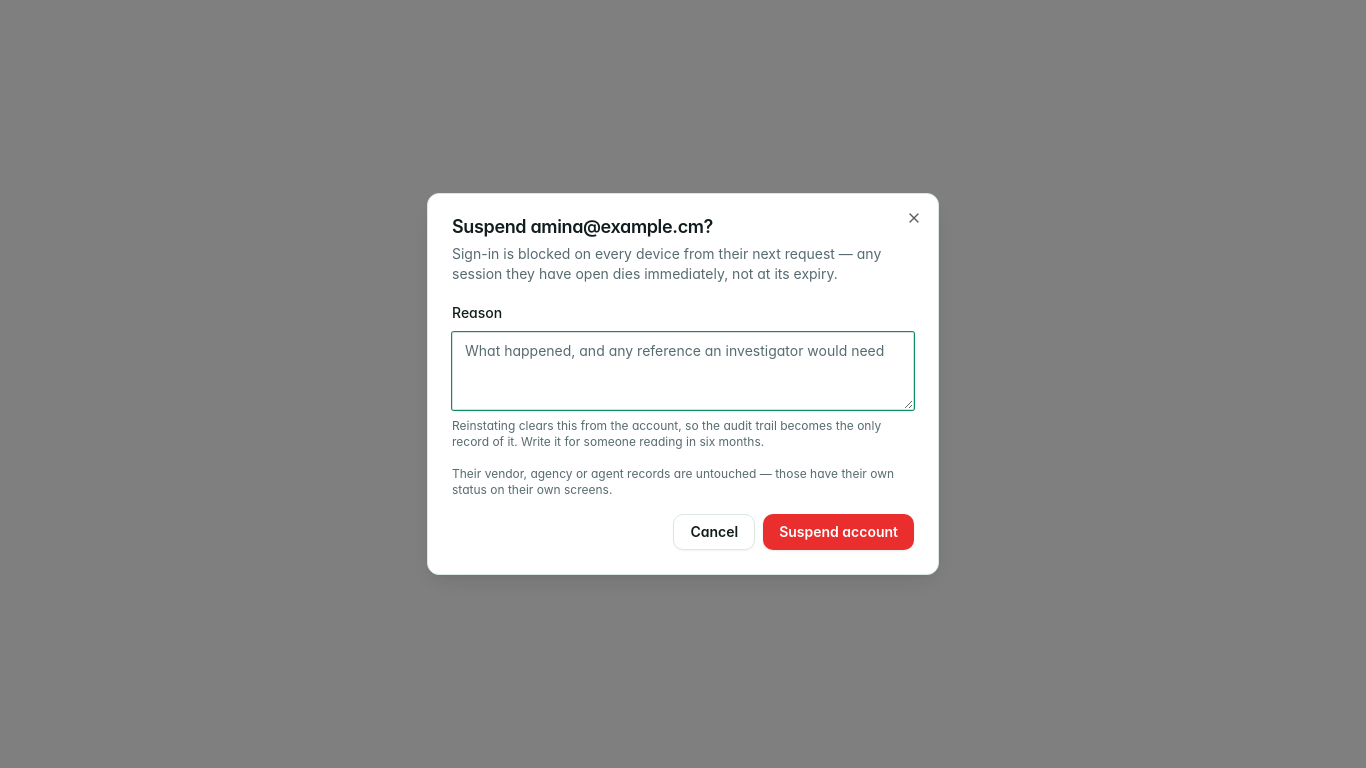
Test: suspending › refuses an empty reason
This screenshot has width=1366, height=768.
Click the button "Suspend account".
click(839, 532)  # box [763,514,914,550]
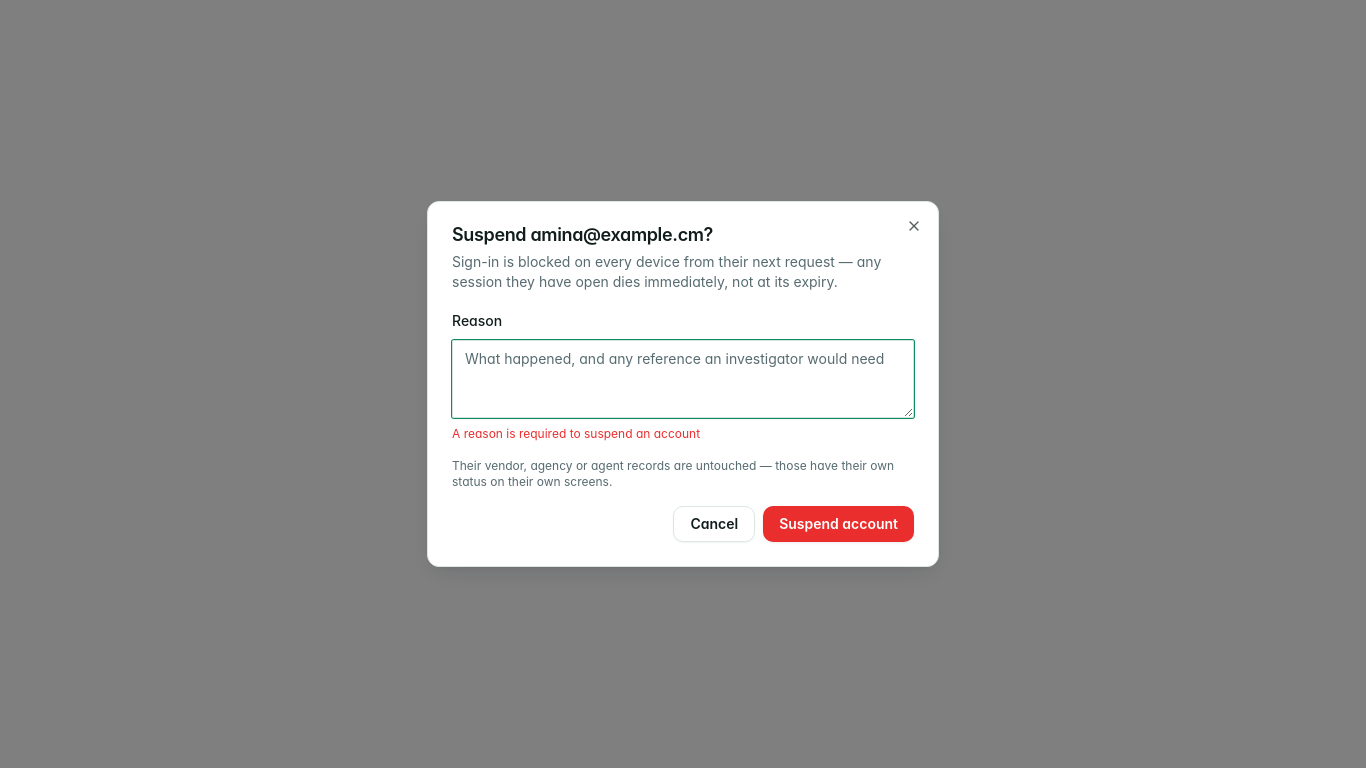
Result: the text "A reason is required to suspend an account" is shown at [452,426,700,441]
